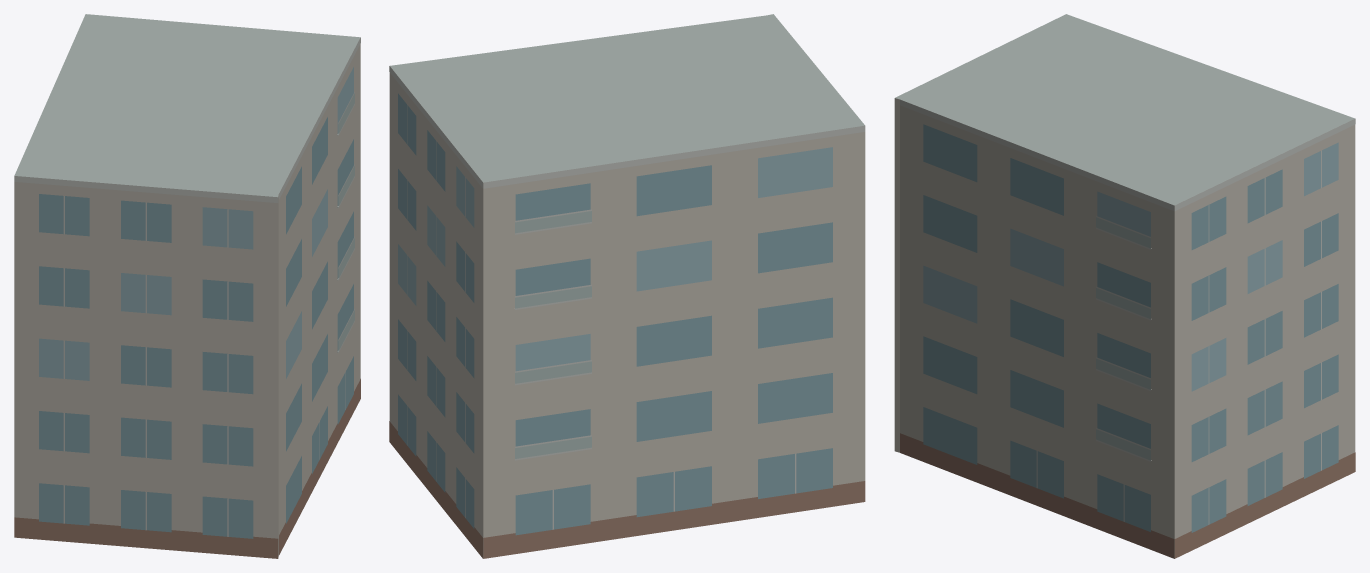
Rendered from survey-upis-32676558.glb.
3 renders of one model, left to right at view 1: azimuth 30°, elevation 25°; view 2: azimuth 150°, elevation 25°; view 3: azimuth 270°, elevation 25°, orthographic. The views are drawn at different scales.
Parts seen in each view (by area): view 1: survey-upis-32676558.tmp; view 2: survey-upis-32676558.tmp; view 3: survey-upis-32676558.tmp.
Part boxes in pixels (<box>): survey-upis-32676558.tmp: <box>14,14,360,558</box>; survey-upis-32676558.tmp: <box>389,14,865,558</box>; survey-upis-32676558.tmp: <box>894,14,1355,558</box>.
Bounding box in the file's own units: 17.22 × 14.8 × 17.5.
